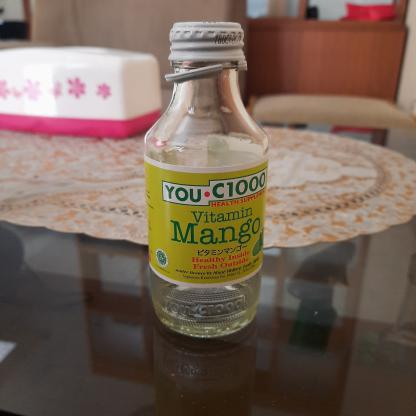keyboard: (145, 17, 272, 343)
